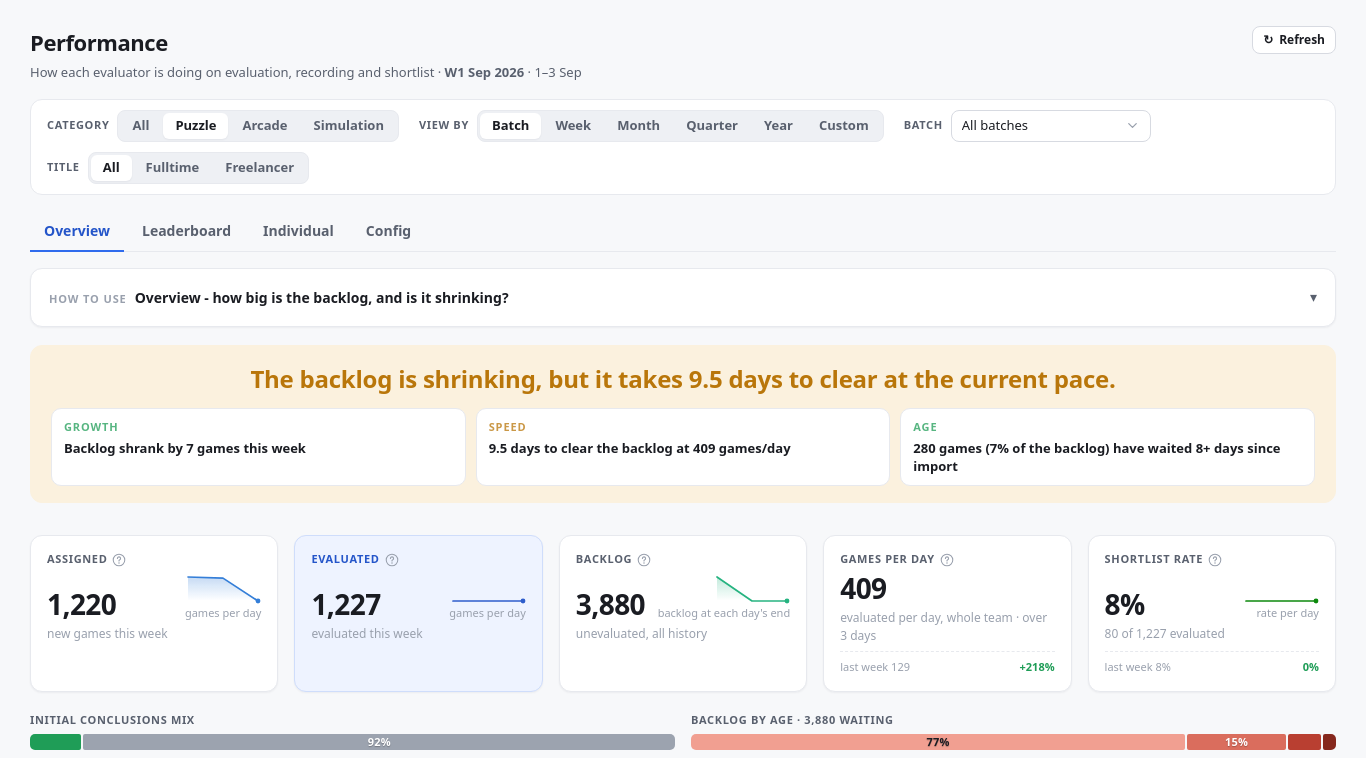
Scenario: Individual activity: backlog line and flow table › draws the backlog on the chart and lists it under the chart
This screenshot has width=1366, height=758.
Step 1. Click the button "Individual" → (298, 231), box [249,210,348,252]
(page scrolled)
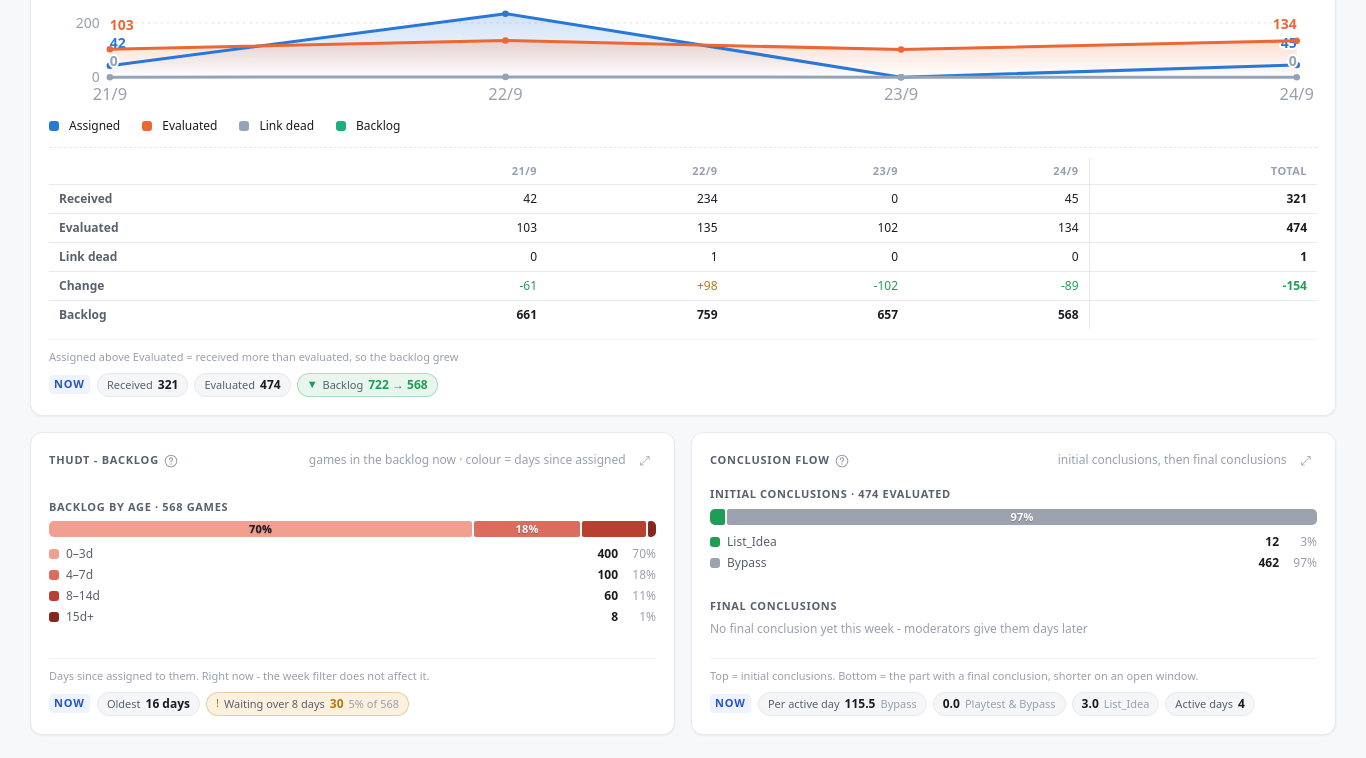
Check: the table with class "rp-flow-table" is shown, box [49,158,1317,329]
Check: the element with class "card-label" shows "Backlog", box [356,116,400,134]
Check: the element with class "rp-fact" shows "722 → 568", box [368,376,428,392]
